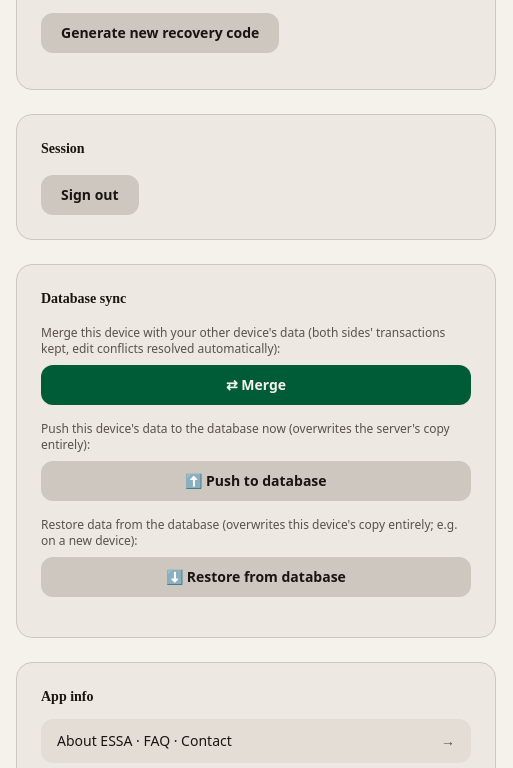
it: a first merge with no record takes the copy's clash records as shown (session 7)
The width and height of the screenshot is (513, 768).
(page scrolled)
Click the button "⇄ Merge" at (256,384), box [41, 364, 471, 404]
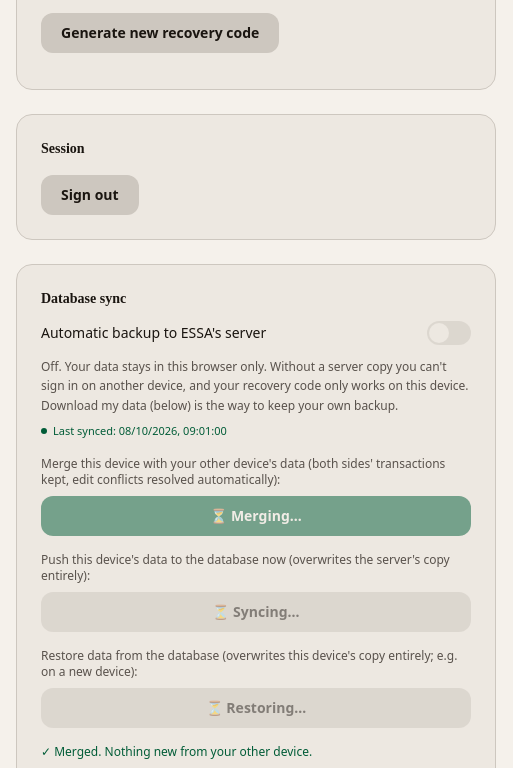
Expected: the text "✓ Merged. Nothing new from your other device." is shown, [41, 742, 312, 760]
